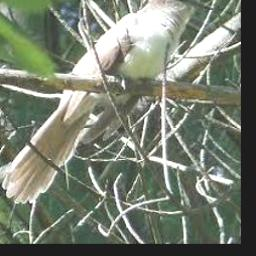Cuckoo: (2, 0, 215, 203)
